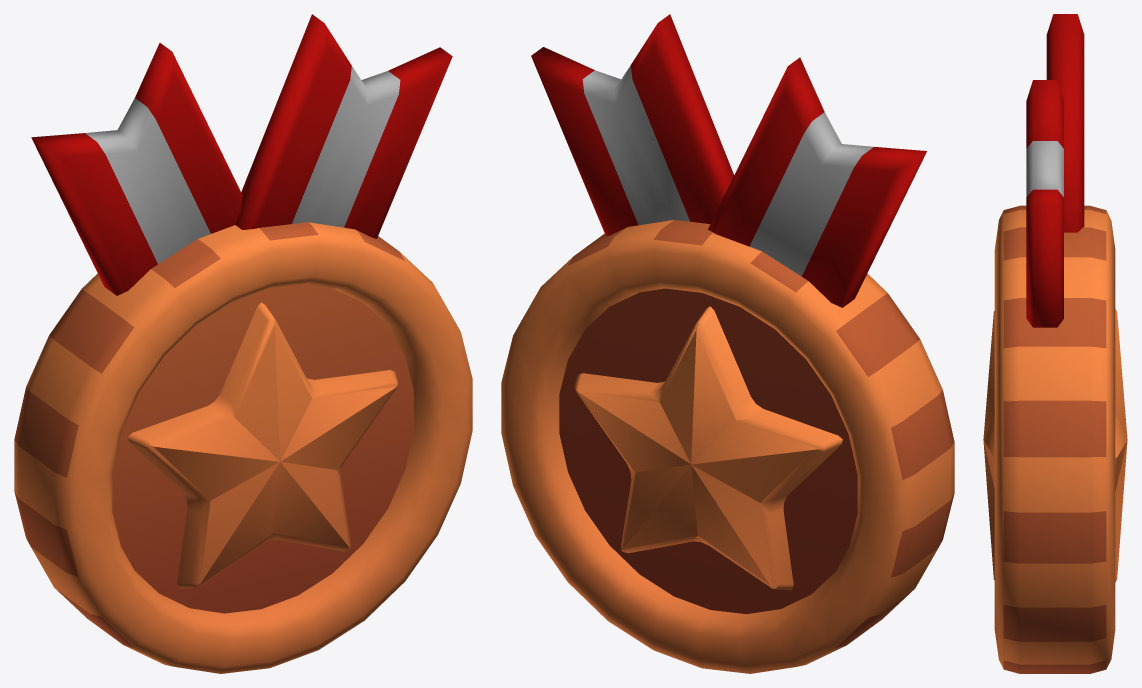
Rendered from Medal_V2_0.fbx.
3 views of the same model, side by side, from view 1: azimuth 30°, elevation 25°; view 2: azimuth 150°, elevation 25°; view 3: azimuth 270°, elevation 25° (orthographic). The views are drawn at different scales.
Parts seen in each view (by area): view 1: Medal_V2_0; view 2: Medal_V2_0; view 3: Medal_V2_0.
Part boxes in pixels (left/top/right/bottom): Medal_V2_0: left=14, top=14, right=472, bottom=673; Medal_V2_0: left=501, top=14, right=954, bottom=673; Medal_V2_0: left=983, top=14, right=1127, bottom=673.
Size of the model in its own units: 0.3931 by 0.5644 by 0.1218.
